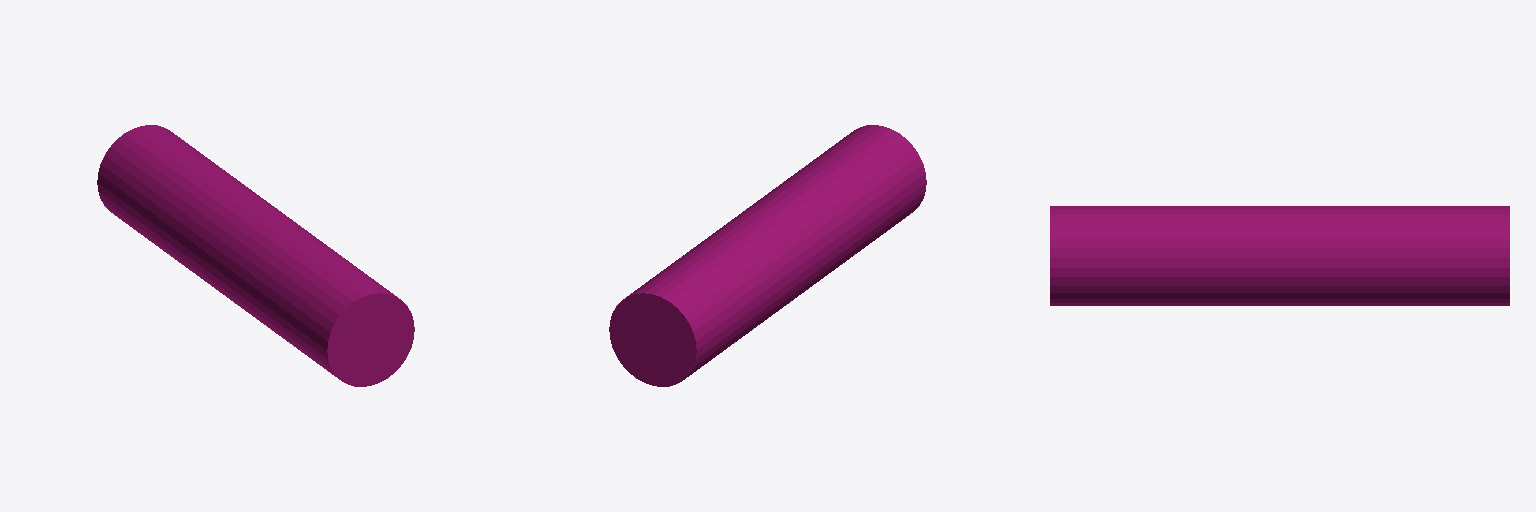
The model's file is SDTip1.OBJ.
3 views of the same model, side by side, from view 1: azimuth 30°, elevation 25°; view 2: azimuth 150°, elevation 25°; view 3: azimuth 270°, elevation 25° (orthographic).
Parts seen in each view (by area): view 1: /ambf/env/SDTip1_SDTip1_/ambf/env/SDTip1_SDTip1; view 2: /ambf/env/SDTip1_SDTip1_/ambf/env/SDTip1_SDTip1; view 3: /ambf/env/SDTip1_SDTip1_/ambf/env/SDTip1_SDTip1.
Part boxes in pixels (x1,y1,x2,y2): /ambf/env/SDTip1_SDTip1_/ambf/env/SDTip1_SDTip1: (97,125,414,386); /ambf/env/SDTip1_SDTip1_/ambf/env/SDTip1_SDTip1: (609,125,926,386); /ambf/env/SDTip1_SDTip1_/ambf/env/SDTip1_SDTip1: (1050,206,1509,305).
Size of the model in its own units: 0.044 by 0.044 by 0.2005.